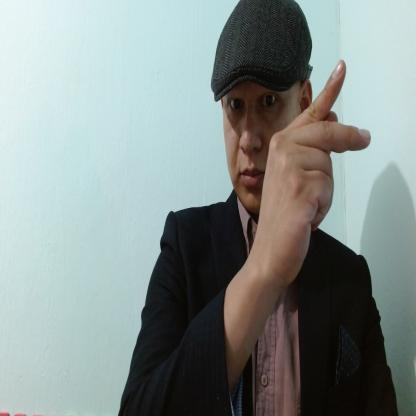P: (257, 55, 372, 284)
